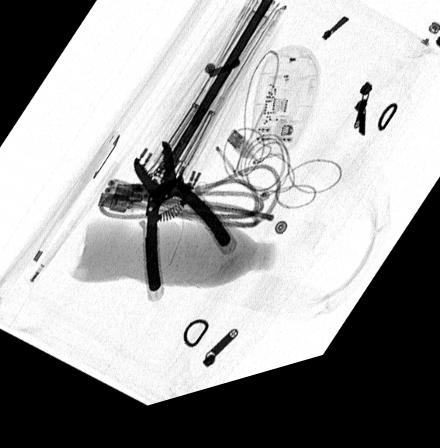Pliers: (133, 148, 232, 300)
